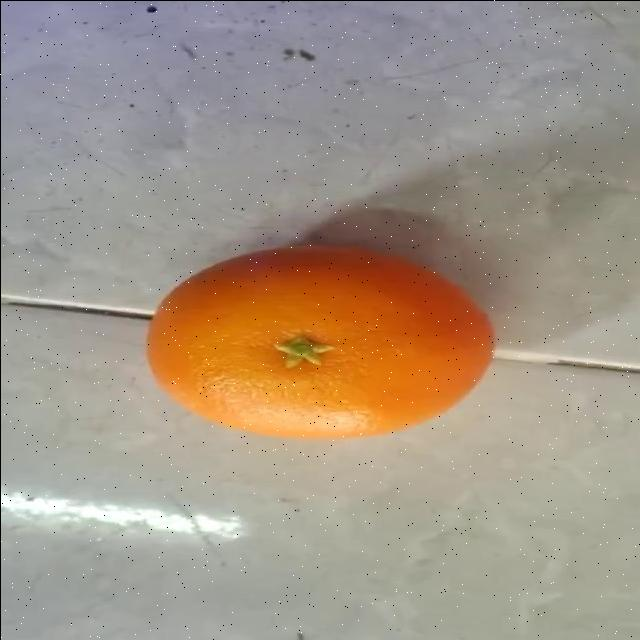Orange: (145, 243, 496, 441)
